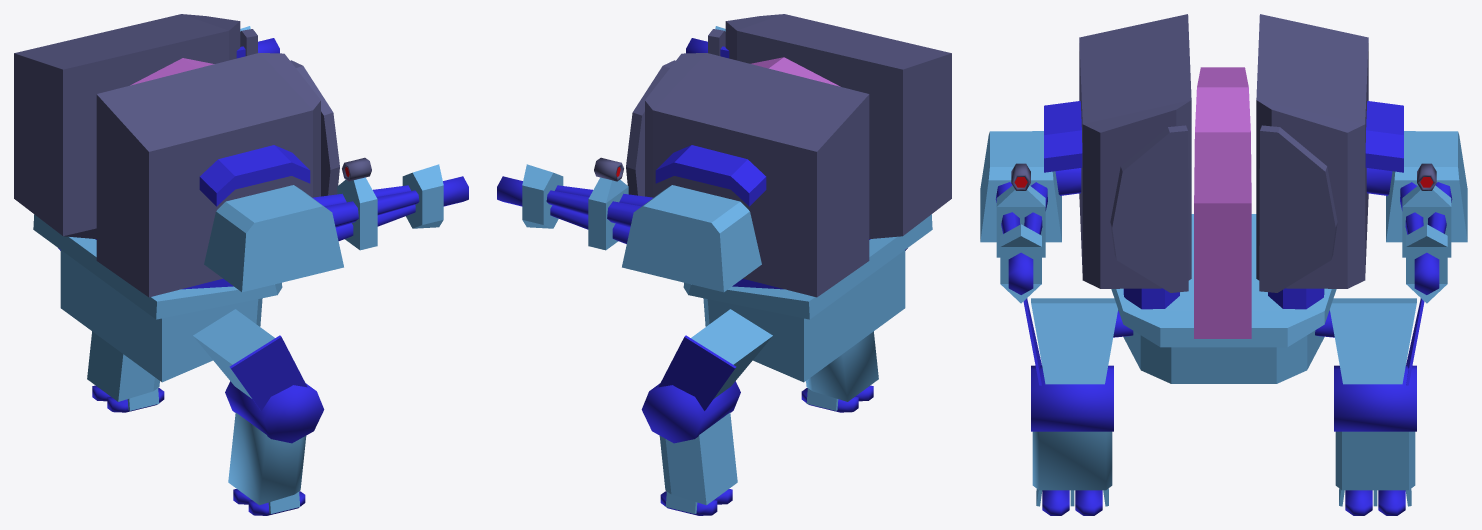
File: Boss AVC.fbx
3 views of the same model, side by side, from view 1: azimuth 30°, elevation 25°; view 2: azimuth 150°, elevation 25°; view 3: azimuth 270°, elevation 25° (orthographic). The views are drawn at different scales.
Visible parts, largest first — view 1: Cube.001; view 2: Cube.001; view 3: Cube.001.
Boxes of the visible parts, x1,y1,x2,y2 form: Cube.001: (14,14,468,515); Cube.001: (497,14,951,515); Cube.001: (980,14,1467,515).
Bounding box in the file's own units: 642 × 844 × 874.
